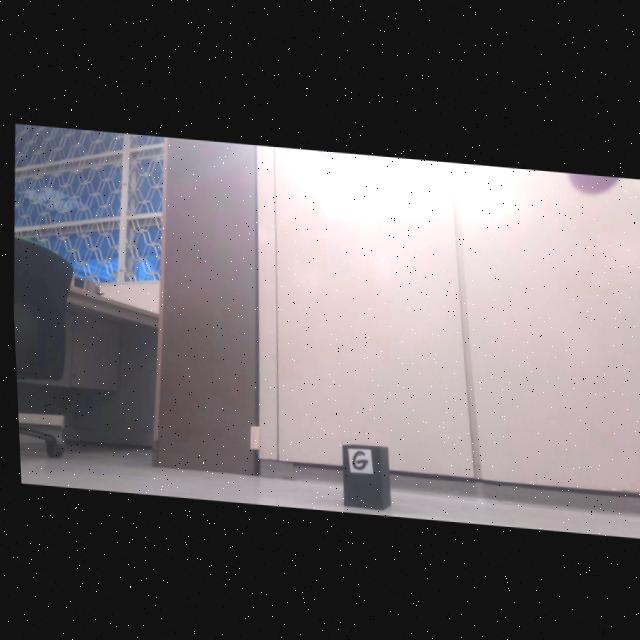G: (349, 448, 363, 467)
